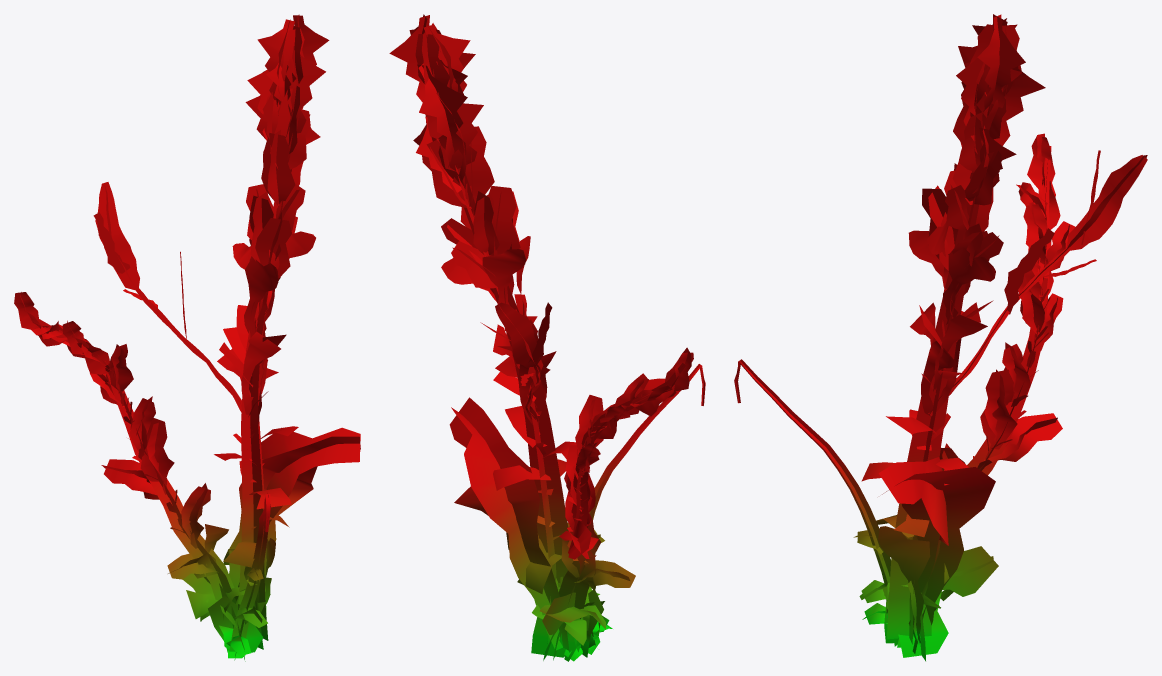
Rendered from F01_Tamarin_04.fbx.
3 views of the same model, side by side, from view 1: azimuth 30°, elevation 25°; view 2: azimuth 150°, elevation 25°; view 3: azimuth 270°, elevation 25° (orthographic). The views are drawn at different scales.
Visible parts, largest first — view 1: _4509_Var4_LOD0; view 2: _4509_Var4_LOD0; view 3: _4509_Var4_LOD0.
Part boxes in pixels (x1=…): _4509_Var4_LOD0: x1=14, y1=14, x2=360, y2=661; _4509_Var4_LOD0: x1=389, y1=14, x2=705, y2=661; _4509_Var4_LOD0: x1=734, y1=14, x2=1147, y2=661.
Size of the model in its own units: 26.91 by 53.03 by 28.88.
